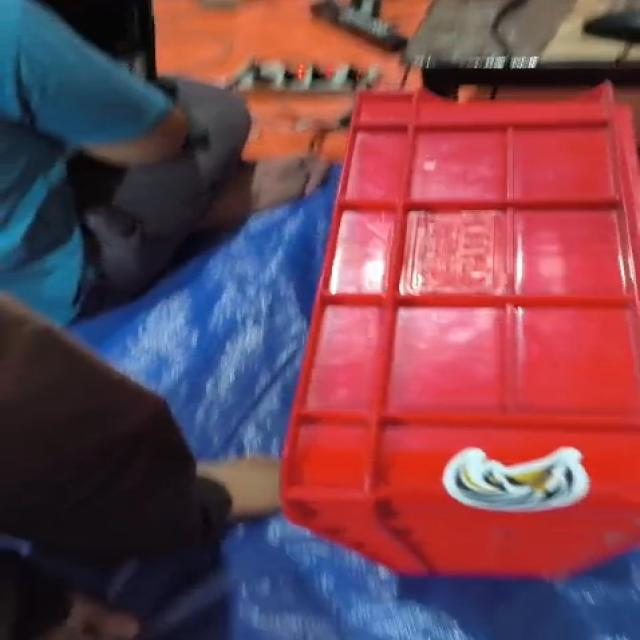red plastic box: (280, 80, 638, 583)
